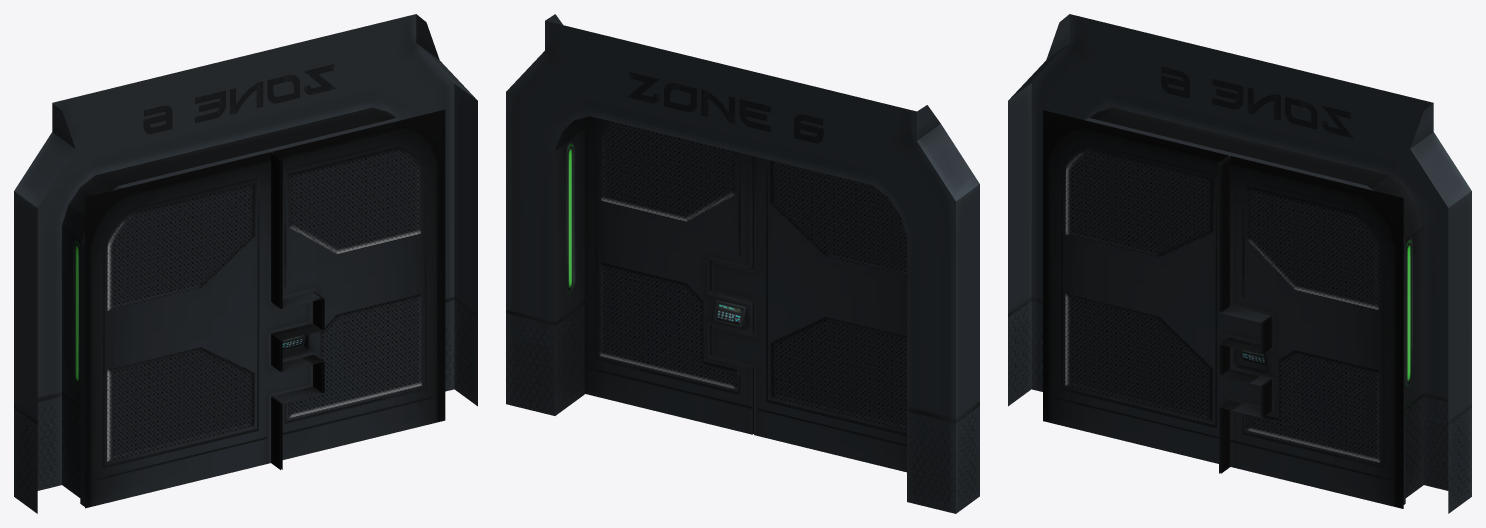
The model's file is LargeDoorsA.FBX.
3 renders of one model, left to right at view 1: azimuth 30°, elevation 25°; view 2: azimuth 150°, elevation 25°; view 3: azimuth 330°, elevation 25°, orthographic. The views are drawn at different scales.
Visible parts, largest first — view 1: LargeDoorsA; view 2: LargeDoorsA; view 3: LargeDoorsA.
Part boxes in pixels (bbox=[...]): LargeDoorsA: bbox=[14, 14, 477, 513]; LargeDoorsA: bbox=[506, 14, 979, 513]; LargeDoorsA: bbox=[1008, 14, 1471, 513].
Bounding box in the file's own units: 504 × 421 × 78.83.
